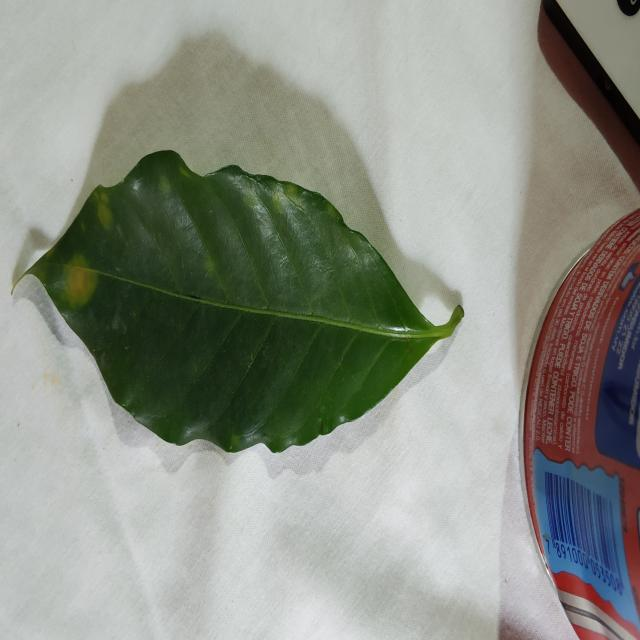Enfermedad-Roya: (29, 151, 462, 455)
